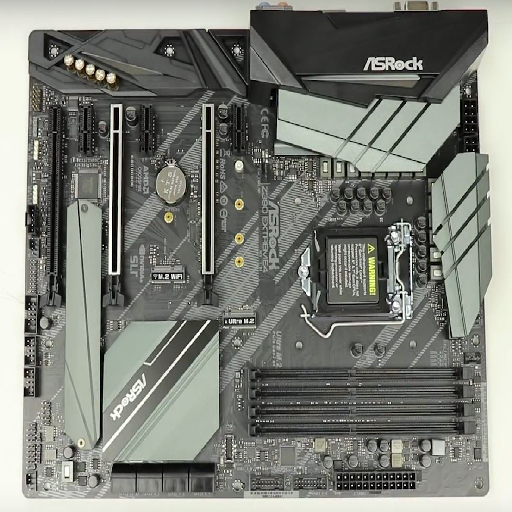CPU: (299, 222, 412, 321)
GPU: (195, 99, 220, 308), (102, 101, 127, 308)
MOTHERBOARD: (25, 28, 490, 500)
RAM: (242, 364, 477, 438)
SSD: (149, 262, 190, 288), (220, 310, 258, 332)
